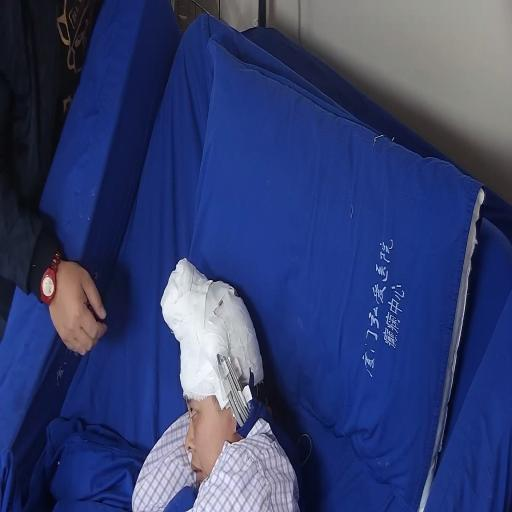Seizure: (170, 366, 250, 485)
